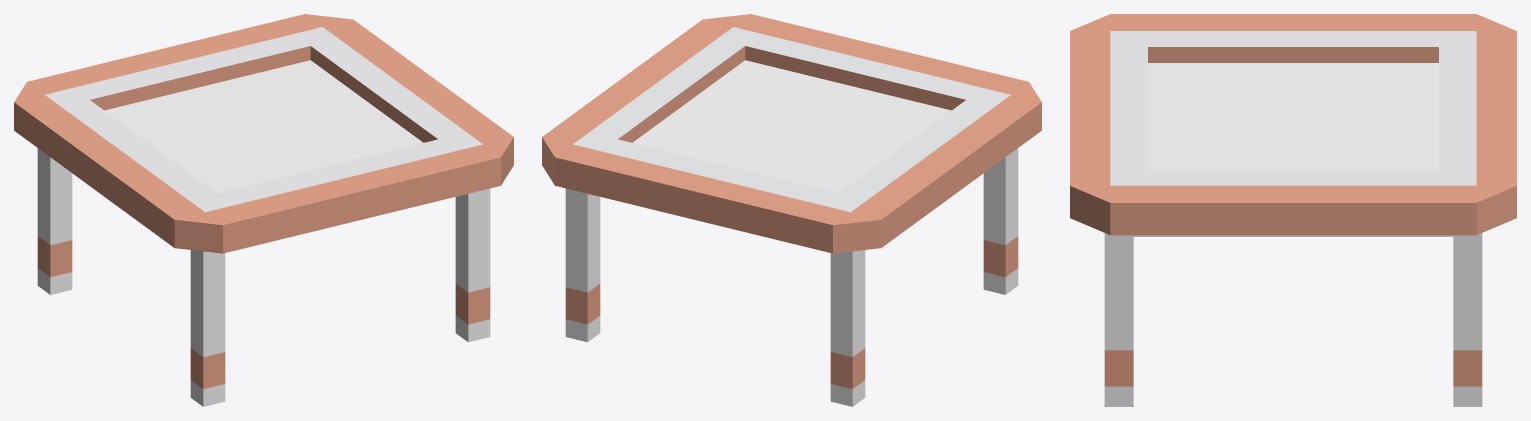
File: frameHighTile.glb
The picture shows the model from 3 angles, left to right: view 1: azimuth 30°, elevation 25°; view 2: azimuth 150°, elevation 25°; view 3: azimuth 270°, elevation 25°; orthographic projection. The views are drawn at different scales.
Parts seen in each view (by area): view 1: frameHighTile; view 2: frameHighTile; view 3: frameHighTile.
Part boxes in pixels (box(x1,y1,x2,y2)): frameHighTile: box(14, 14, 513, 406); frameHighTile: box(542, 14, 1041, 406); frameHighTile: box(1070, 14, 1516, 406).
Size of the model in its own units: 10 by 5.4 by 10.
